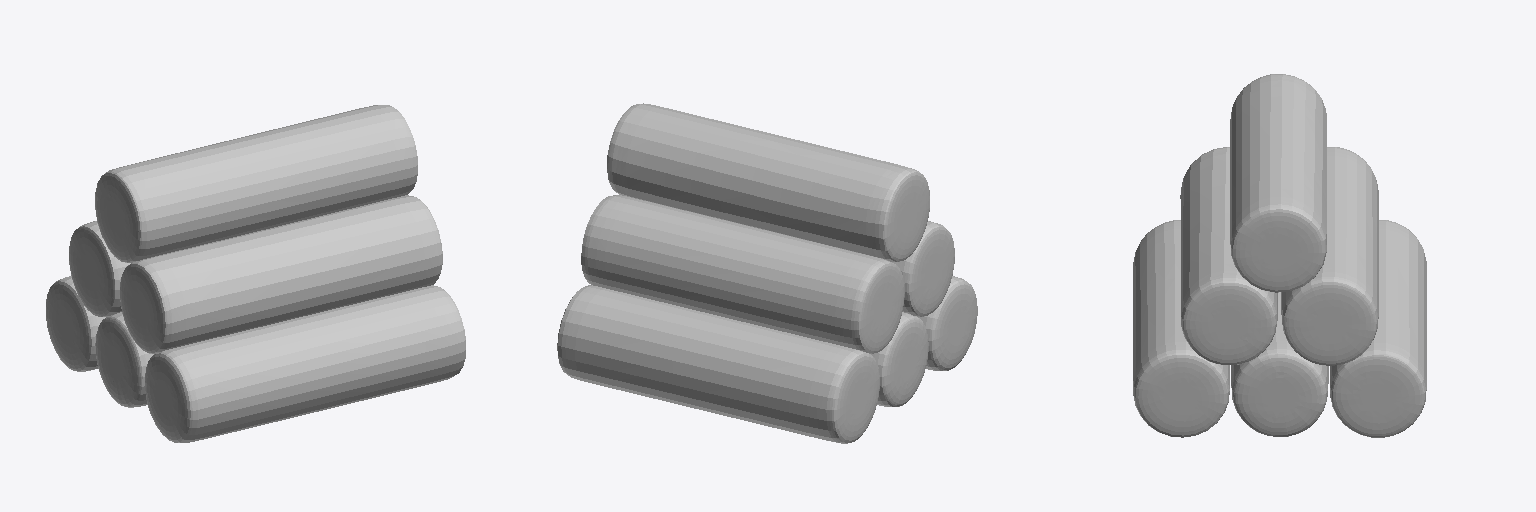
File: Log_Stack.obj
The picture shows the model from 3 angles: view 1: azimuth 30°, elevation 25°; view 2: azimuth 150°, elevation 25°; view 3: azimuth 270°, elevation 25°; orthographic projection.
Visible parts, largest first — view 1: pCylinder6, pCylinder1, pCylinder5, pCylinder4, pCylinder3, pCylinder2; view 2: pCylinder3, pCylinder6, pCylinder4, pCylinder5, pCylinder1, pCylinder2; view 3: pCylinder6, pCylinder4, pCylinder5, pCylinder3, pCylinder1, pCylinder2.
Part boxes in pixels (left/top/right/bottom): pCylinder6: left=95, top=105, right=417, bottom=262; pCylinder1: left=145, top=285, right=465, bottom=442; pCylinder5: left=120, top=195, right=442, bottom=353; pCylinder4: left=69, top=221, right=130, bottom=316; pCylinder3: left=46, top=276, right=105, bottom=371; pCylinder2: left=95, top=312, right=153, bottom=407; pCylinder3: left=557, top=285, right=879, bottom=443; pCylinder6: left=607, top=103, right=929, bottom=261; pCylinder4: left=581, top=195, right=904, bottom=353; pCylinder5: left=892, top=221, right=954, bottom=316; pCylinder1: left=918, top=276, right=977, bottom=370; pCylinder2: left=871, top=312, right=928, bottom=406; pCylinder6: left=1230, top=74, right=1326, bottom=292; pCylinder4: left=1281, top=147, right=1378, bottom=365; pCylinder5: left=1180, top=147, right=1277, bottom=364; pCylinder3: left=1330, top=220, right=1426, bottom=437; pCylinder1: left=1133, top=220, right=1229, bottom=437; pCylinder2: left=1231, top=292, right=1328, bottom=436.
Bounding box in the file's own units: 20.17 × 15.97 × 18.22.